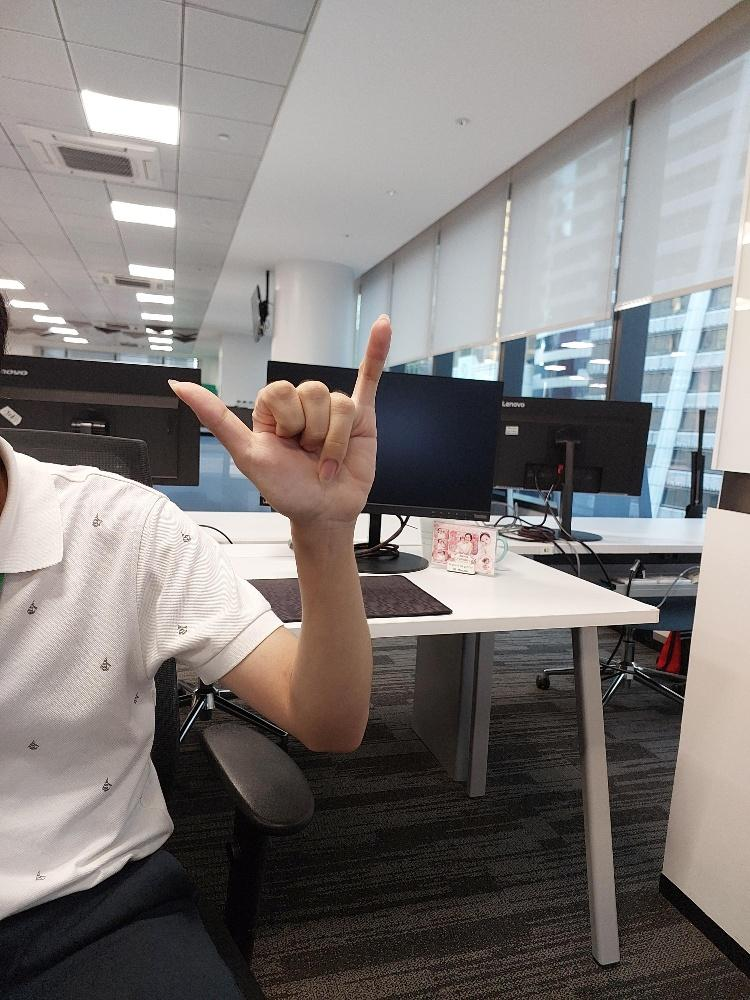y: (166, 311, 394, 514)
